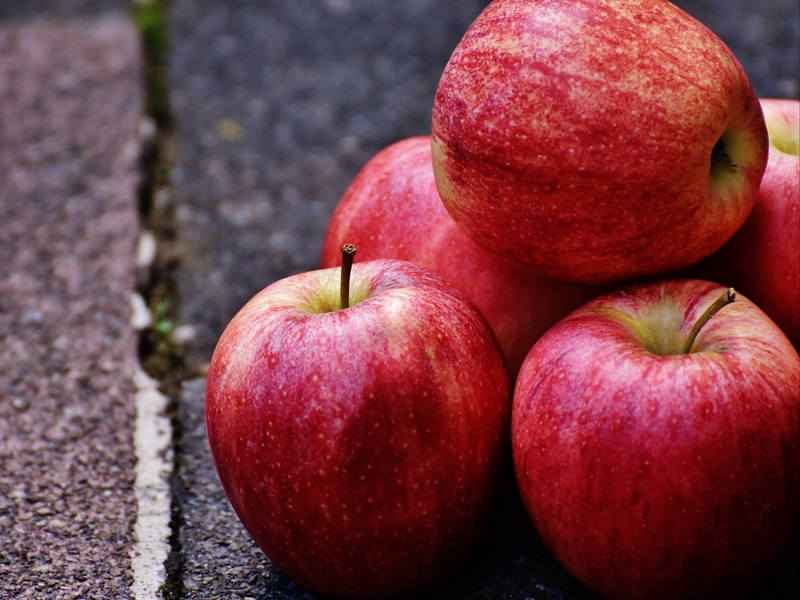elma: (205, 244, 509, 576), (432, 1, 769, 274), (514, 277, 800, 587)
